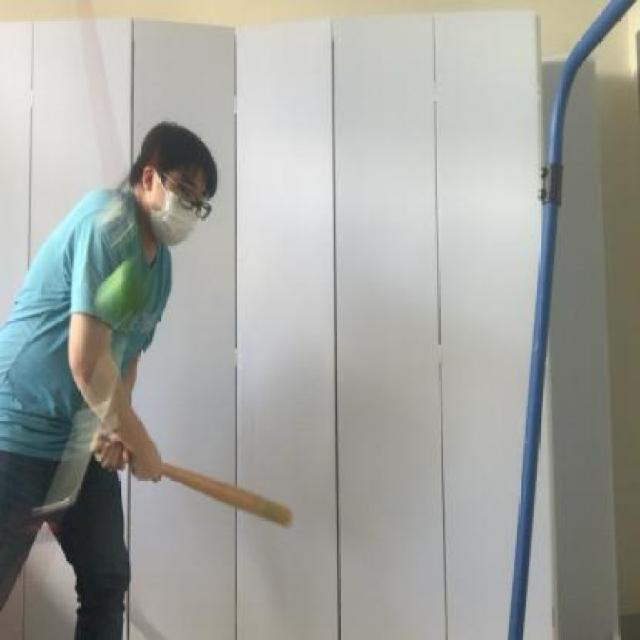baseball: (83, 252, 151, 332)
